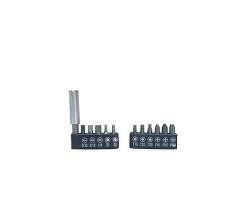screwdriver: (167, 122, 175, 133), (93, 123, 101, 133), (160, 123, 168, 133), (86, 123, 93, 133), (79, 123, 85, 133), (154, 123, 159, 133)
